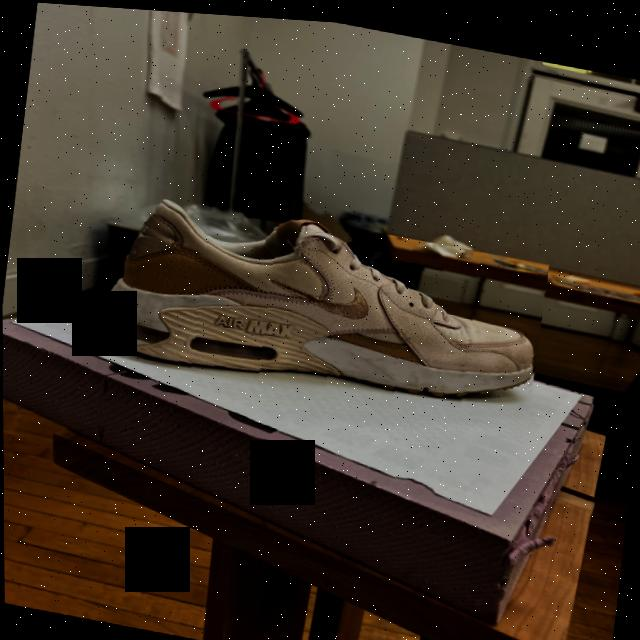shoe: (90, 179, 549, 428)
